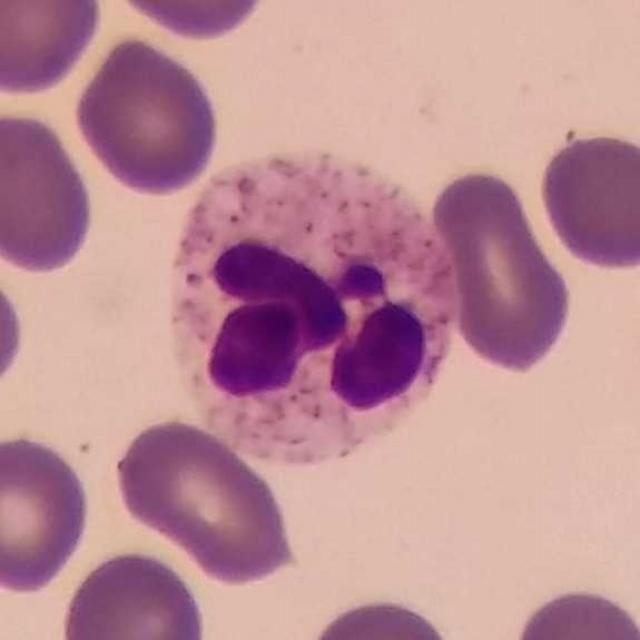Neutrophil: (166, 151, 476, 476)
RBC: (108, 413, 303, 587), (425, 164, 578, 375), (70, 32, 226, 198), (0, 106, 99, 277), (0, 428, 96, 598), (534, 126, 640, 275), (56, 545, 212, 640), (0, 0, 107, 100), (297, 591, 462, 640), (507, 582, 640, 640), (102, 0, 275, 43), (0, 257, 29, 405)
